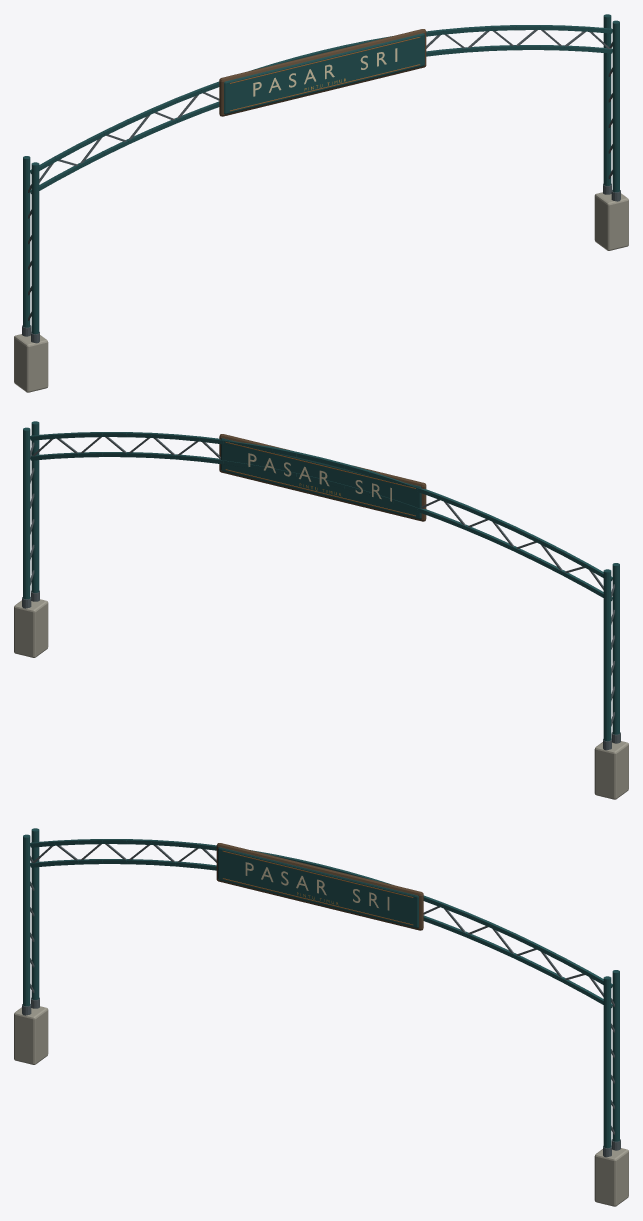
Rendered from GapuraPasar.fbx.
3 views of the same model, one above another, from view 1: azimuth 30°, elevation 25°; view 2: azimuth 150°, elevation 25°; view 3: azimuth 330°, elevation 25° (orthographic).
Parts seen in each view (by area): view 1: GapuraPasar; view 2: GapuraPasar; view 3: GapuraPasar.
Boxes of the visible parts, left/top/right/bottom form: GapuraPasar: left=14, top=14, right=628, bottom=392; GapuraPasar: left=14, top=421, right=628, bottom=799; GapuraPasar: left=14, top=828, right=628, bottom=1206.
Size of the model in its own units: 1357 by 568 by 55.
